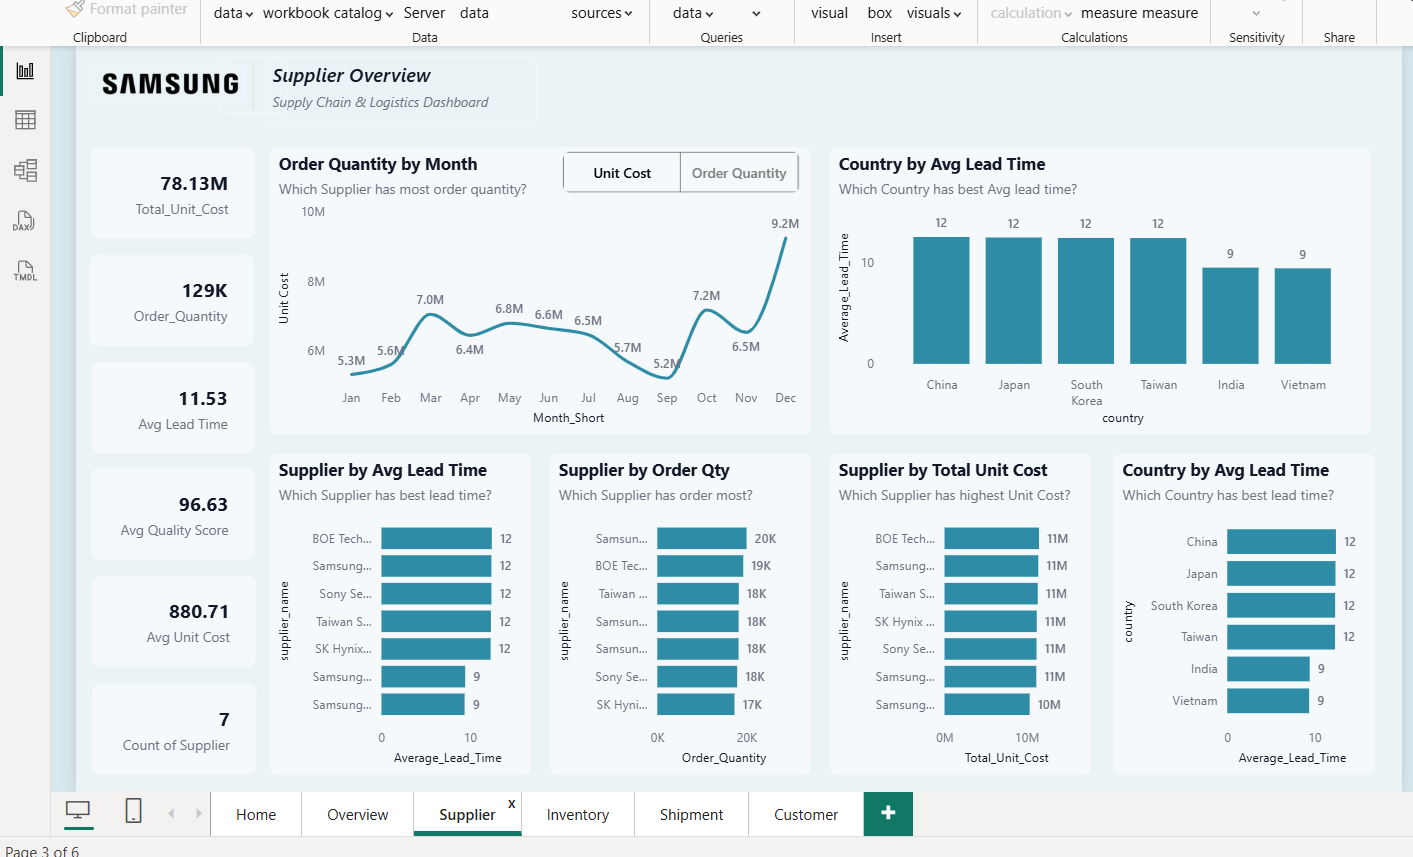

Layout of this report page (visuals, bound fields, positions):
{"tool":"powerbi","page":{"name":"Supplier","canvas":[1280,720],"ordinal":2},"visuals":[{"type":"shape","title":"Supplier Overview","box":[185.8,10.9,259.4,66.4],"z":0},{"type":"shape","box":[137.5,10.9,67.6,54.3],"z":1000},{"type":"image","box":[13.3,18.1,149.6,36.2],"z":2000},{"type":"cardVisual","fields":{"Data":["MeasureTable.Order_Quantity"]},"box":[13.3,201.2,158,88.1],"z":3000},{"type":"cardVisual","fields":{"Data":["MeasureTable.Average_Lead_Time"]},"box":[15.7,305.2,156.8,88.1],"z":4000},{"type":"cardVisual","fields":{"Data":["fact_procurement.AVG_Unit_Cost"]},"box":[15.4,511.8,158,88.1],"z":5000},{"type":"cardVisual","fields":{"Data":["CountNonNull(dim_supplier.supplier_id)"]},"box":[16.2,615.3,158,88.1],"z":6000},{"type":"cardVisual","fields":{"Data":["fact_procurement.AVG_Quality_Score"]},"box":[14.7,408.3,158,88.1],"z":7000},{"type":"cardVisual","fields":{"Data":["fact_procurement.Total_Unit_Cost"]},"box":[14.5,97.7,158,88.1],"z":8000},{"type":"clusteredBarChart","title":"Supplier by Avg Lead Time","fields":{"Y":["MeasureTable.Average_Lead_Time"],"Category":["dim_supplier.supplier_name"]},"box":[187,393.3,252.1,310.1],"z":9000},{"type":"clusteredBarChart","title":"Supplier by Order Qty","fields":{"Y":["MeasureTable.Order_Quantity"],"Category":["dim_supplier.supplier_name"]},"box":[457.2,393.3,252.1,310.1],"z":10000},{"type":"clusteredBarChart","title":"Supplier by Total Unit Cost","fields":{"Category":["dim_supplier.supplier_name"],"Y":["fact_procurement.Total_Unit_Cost"]},"box":[727.5,393.3,252.1,310.1],"z":11000},{"type":"clusteredBarChart","title":"Country by Avg Lead Time","fields":{"Y":["MeasureTable.Average_Lead_Time"],"Category":["dim_supplier.country"]},"box":[1001.3,393.3,252.1,310.1],"z":12000},{"type":"lineChart","title":"Order Quantity by Month ","fields":{"Y":["fact_procurement.Total_Unit_Cost"],"Category":["dim_date.Month_Short"]},"box":[187,97.7,522.4,277.5],"z":13000,"group":"g1"},{"type":"clusteredColumnChart","title":"Country by Avg Lead Time","fields":{"Y":["MeasureTable.Average_Lead_Time"],"Category":["dim_supplier.country"]},"box":[727.5,97.7,522.4,277.5],"z":14000},{"type":"advancedSlicerVisual","fields":{"Values":["Cost_Qty_Supplier.Cost_Qty_Supplier"]},"box":[469.3,101.3,229.2,41],"z":15000,"group":"g1"},{"type":"group","id":"g1","title":"Group 1","box":[187,97.7,522.4,277.5],"z":15001}]}

Visuals, with their boxes on the page's 1280x720 design canvas (x1, y1, x2, y2). These are canvas units, not pixel positions in the 1413x857 screenshot, which may show the page scaled, cropped or inside an application window:
"Supplier Overview" shape: [x1=186, y1=11, x2=445, y2=77]
shape: [x1=138, y1=11, x2=205, y2=65]
image: [x1=13, y1=18, x2=163, y2=54]
cardVisual - MeasureTable.Order_Quantity: [x1=13, y1=201, x2=171, y2=289]
cardVisual - MeasureTable.Average_Lead_Time: [x1=16, y1=305, x2=172, y2=393]
cardVisual - fact_procurement.AVG_Unit_Cost: [x1=15, y1=512, x2=173, y2=600]
cardVisual - CountNonNull(dim_supplier.supplier_id): [x1=16, y1=615, x2=174, y2=703]
cardVisual - fact_procurement.AVG_Quality_Score: [x1=15, y1=408, x2=173, y2=496]
cardVisual - fact_procurement.Total_Unit_Cost: [x1=14, y1=98, x2=172, y2=186]
"Supplier by Avg Lead Time" clusteredBarChart: [x1=187, y1=393, x2=439, y2=703]
"Supplier by Order Qty" clusteredBarChart: [x1=457, y1=393, x2=709, y2=703]
"Supplier by Total Unit Cost" clusteredBarChart: [x1=728, y1=393, x2=980, y2=703]
"Country by Avg Lead Time" clusteredBarChart: [x1=1001, y1=393, x2=1253, y2=703]
"Order Quantity by Month " lineChart: [x1=187, y1=98, x2=709, y2=375]
"Country by Avg Lead Time" clusteredColumnChart: [x1=728, y1=98, x2=1250, y2=375]
advancedSlicerVisual - Cost_Qty_Supplier.Cost_Qty_Supplier: [x1=469, y1=101, x2=698, y2=142]
"Group 1" group: [x1=187, y1=98, x2=709, y2=375]
